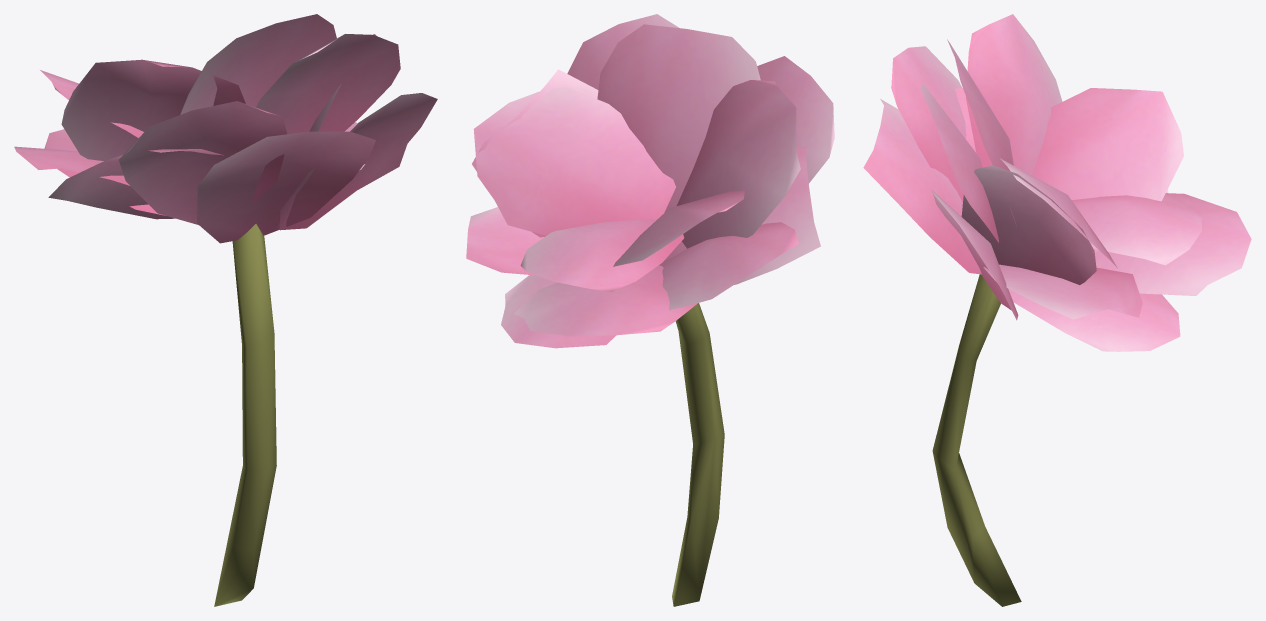
Rendered from redMediumSingle.fbx.
3 renders of one model, left to right at view 1: azimuth 30°, elevation 25°; view 2: azimuth 150°, elevation 25°; view 3: azimuth 270°, elevation 25°, orthographic. The views are drawn at different scales.
Visible parts, largest first — view 1: Cylinder.002, Cylinder.000; view 2: Cylinder.002, Cylinder.000; view 3: Cylinder.002, Cylinder.000.
Boxes of the visible parts, x1=… form: Cylinder.002: x1=14, y1=14, x2=437, y2=243; Cylinder.000: x1=214, y1=224, x2=276, y2=606; Cylinder.002: x1=466, y1=14, x2=834, y2=348; Cylinder.000: x1=672, y1=303, x2=724, y2=606; Cylinder.002: x1=863, y1=14, x2=1251, y2=351; Cylinder.000: x1=932, y1=274, x2=1021, y2=606.
Bounding box in the file's own units: 46.35 × 72.71 × 46.21.
